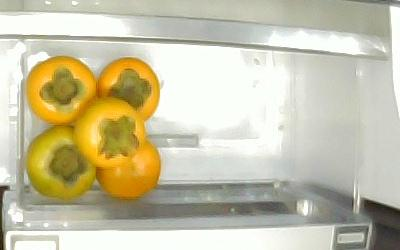persimmon: (71, 96, 146, 168), (24, 124, 95, 200), (25, 54, 97, 124), (94, 133, 161, 198), (96, 55, 160, 123)
